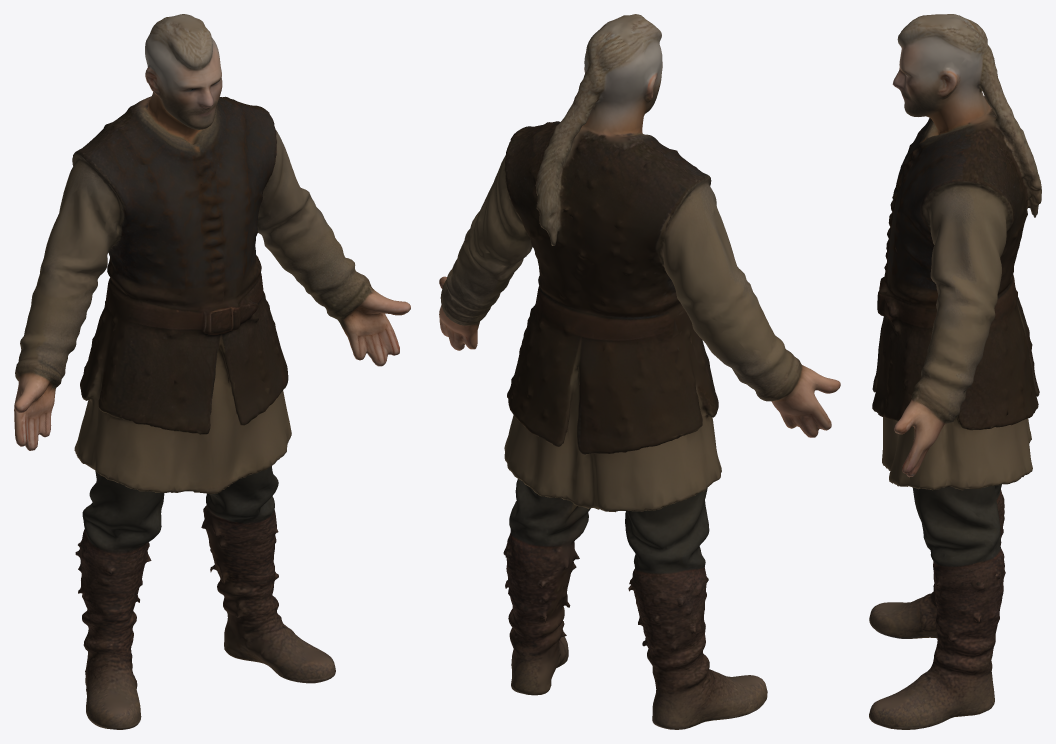
Rendered from source_hunyuan.glb.
The picture shows the model from 3 angles, left to right: view 1: azimuth 30°, elevation 25°; view 2: azimuth 150°, elevation 25°; view 3: azimuth 270°, elevation 25°; orthographic projection. The views are drawn at different scales.
Visible parts, largest first — view 1: material; view 2: material; view 3: material.
Part boxes in pixels (x1=…): material: x1=14, y1=14, x2=410, y2=729; material: x1=439, y1=14, x2=840, y2=729; material: x1=869, y1=14, x2=1041, y2=729.
Bounding box in the file's own units: 0.6922 × 1.11 × 0.2663.
1 material, 1 textured.
